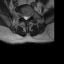CCS_stenosis: (25, 14, 26, 22)
LFS_normal: (28, 13, 30, 19)
LLS_normal: (26, 14, 28, 21)
RFS_normal: (21, 13, 23, 20)
RLS_normal: (23, 14, 25, 21)
